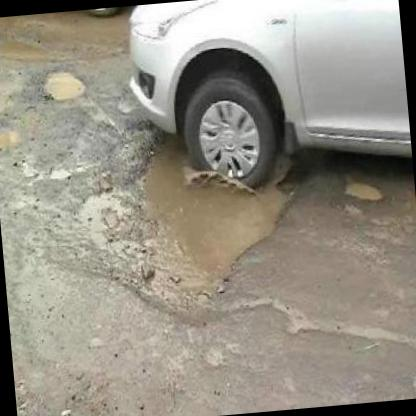pothole: (88, 99, 310, 330), (38, 64, 88, 102), (341, 174, 386, 206), (0, 117, 24, 157)
